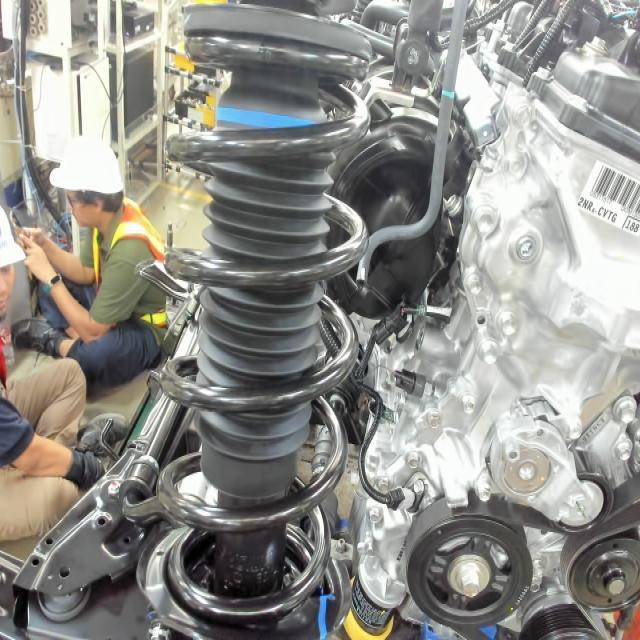Bumper-BR: (208, 102, 326, 141)
Engine Assy-188: (620, 216, 640, 240)
Hose Canister-HJ: (440, 84, 458, 104)
